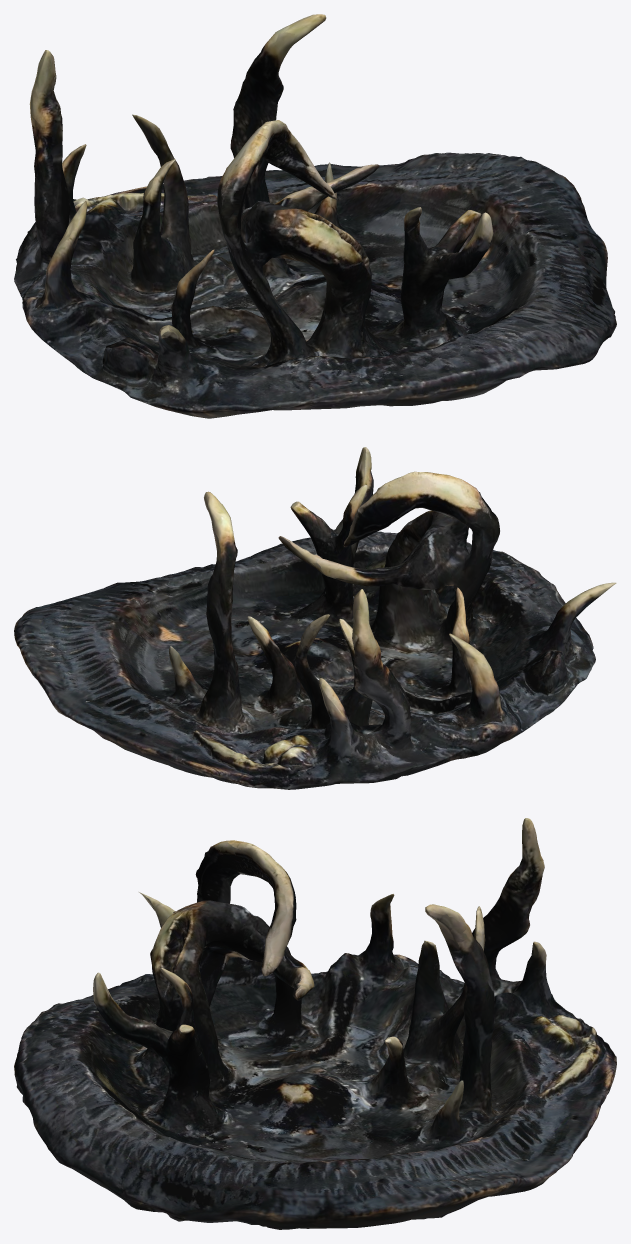
3 views of the same model, one above another, from view 1: azimuth 30°, elevation 25°; view 2: azimuth 150°, elevation 25°; view 3: azimuth 270°, elevation 25° (orthographic). The views are drawn at different scales.
Size of the model in its own units: 0.8146 by 0.356 by 0.804.
1 material, 1 textured.
